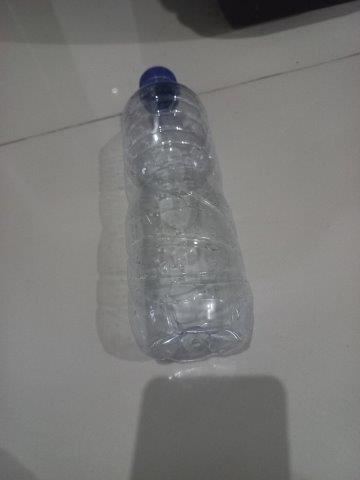botolplastik: (123, 66, 250, 366)
